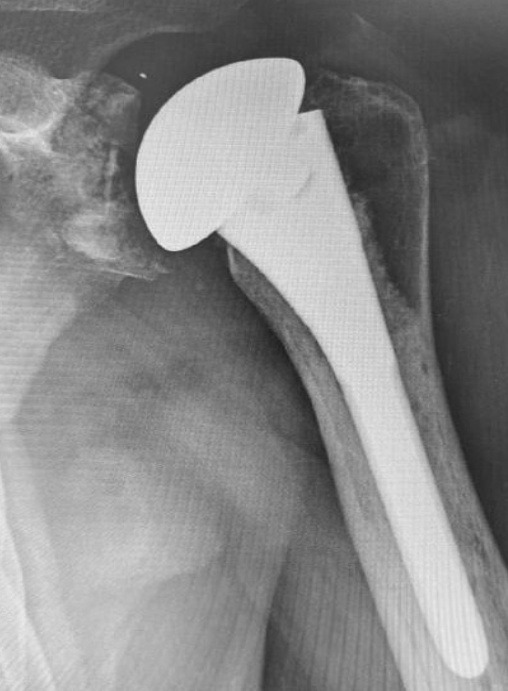Shoulder - Anotomical - Stryker: (123, 51, 368, 262)
